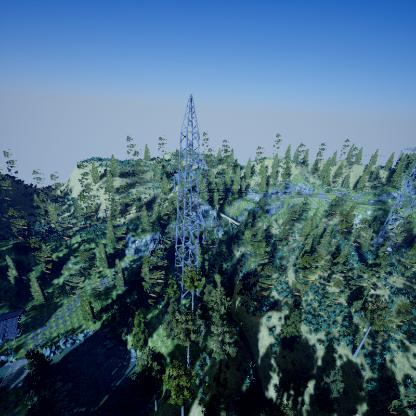tower: (166, 93, 213, 327)
